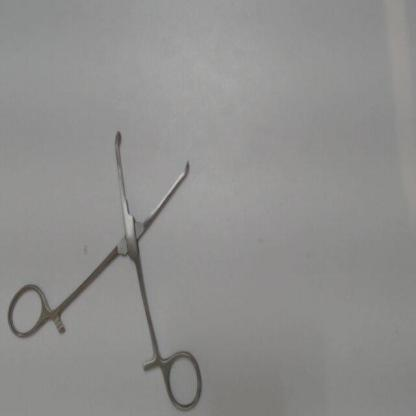Allis Tissue Forceps: (2, 124, 205, 414)
